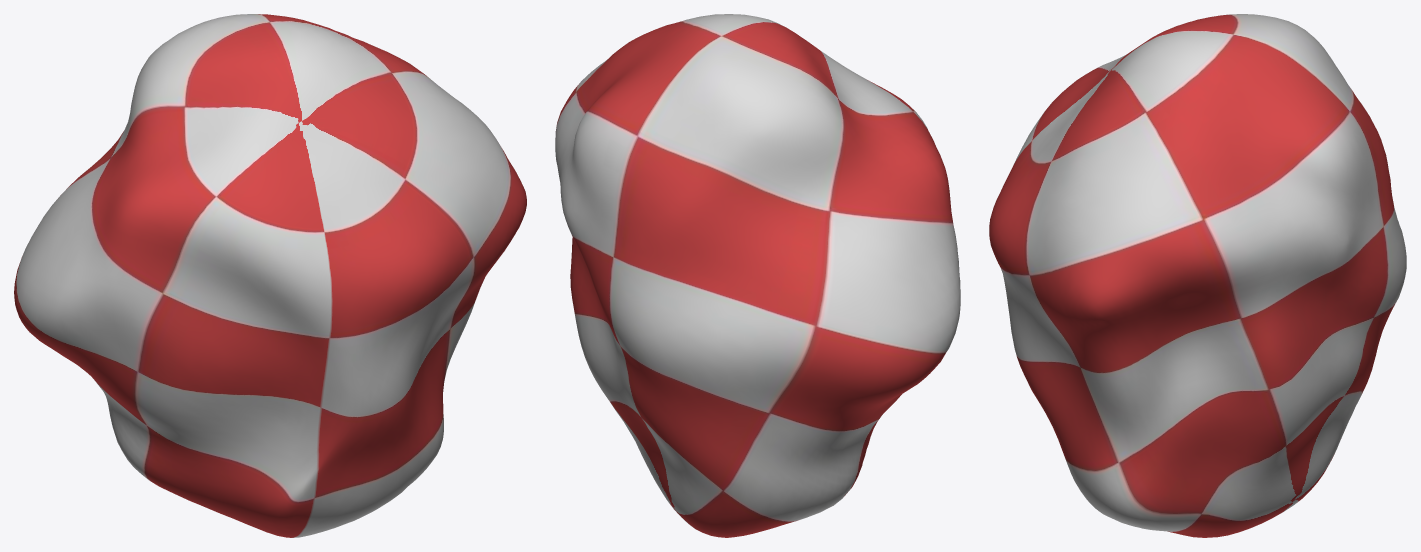
The model's file is liquid-rock-no-texture-v4-optimize.glb.
3 views of the same model, side by side, from view 1: azimuth 30°, elevation 25°; view 2: azimuth 150°, elevation 25°; view 3: azimuth 270°, elevation 25° (orthographic).
Visible parts, largest first — view 1: LIQUID_ROCK_no_texture; view 2: LIQUID_ROCK_no_texture; view 3: LIQUID_ROCK_no_texture.
Part boxes in pixels (x1,y1,x2,y2): LIQUID_ROCK_no_texture: (14, 14, 526, 537); LIQUID_ROCK_no_texture: (555, 14, 960, 537); LIQUID_ROCK_no_texture: (989, 14, 1406, 537).
Size of the model in its own units: 1.91 by 2.14 by 1.62.
Materials: 1 (1 with a texture image).
